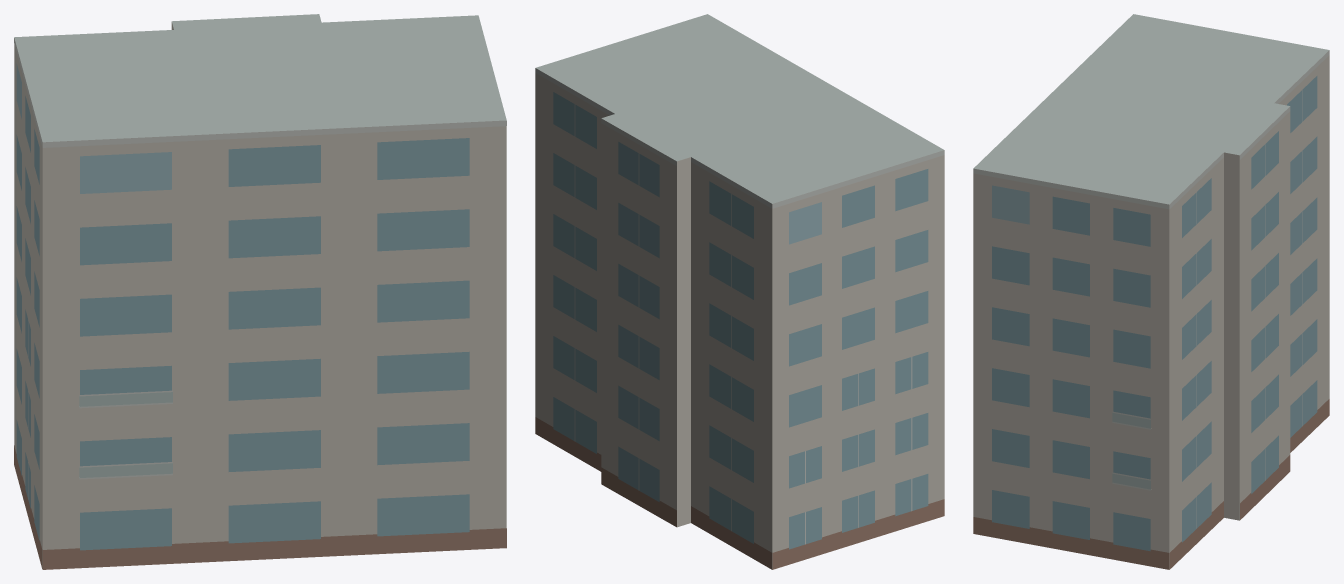
File: survey-upis-32565151.glb
3 views of the same model, side by side, from view 1: azimuth 30°, elevation 25°; view 2: azimuth 150°, elevation 25°; view 3: azimuth 270°, elevation 25° (orthographic). The views are drawn at different scales.
Parts seen in each view (by area): view 1: survey-upis-32565151.tmp; view 2: survey-upis-32565151.tmp; view 3: survey-upis-32565151.tmp.
Boxes of the visible parts, box(x1,y1,x2,y2) form: survey-upis-32565151.tmp: box(14, 14, 506, 569); survey-upis-32565151.tmp: box(535, 14, 944, 569); survey-upis-32565151.tmp: box(973, 14, 1329, 569).
Bounding box in the file's own units: 20.48 × 18.3 × 16.19.
